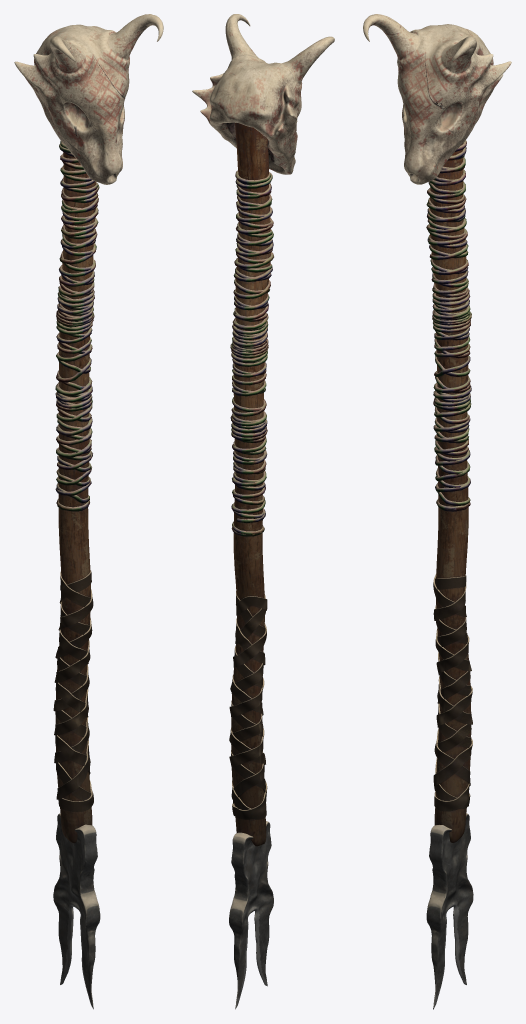
File: tribe_staff.glb
The picture shows the model from 3 angles, left to right: view 1: azimuth 30°, elevation 25°; view 2: azimuth 150°, elevation 25°; view 3: azimuth 330°, elevation 25°; orthographic projection. The views are drawn at different scales.
Visible parts, largest first — view 1: Skull LP, Staff, Wrap Rope, Wrap Strap, Blade; view 2: Staff, Wrap Rope, Skull LP, Wrap Strap, Blade; view 3: Skull LP, Staff, Wrap Rope, Wrap Strap, Blade.
Boxes of the visible parts, <box> form: Skull LP: <box>14,14,163,184</box>; Staff: <box>55,152,96,843</box>; Wrap Rope: <box>55,141,99,511</box>; Wrap Strap: <box>53,570,93,811</box>; Blade: <box>53,813,100,1009</box>; Staff: <box>231,123,270,846</box>; Wrap Rope: <box>230,170,273,536</box>; Skull LP: <box>192,14,334,174</box>; Wrap Strap: <box>229,591,267,819</box>; Blade: <box>229,821,273,1009</box>; Skull LP: <box>363,14,511,184</box>; Staff: <box>429,143,471,842</box>; Wrap Rope: <box>426,140,471,511</box>; Wrap Strap: <box>433,574,472,811</box>; Blade: <box>426,813,473,1009</box>.
Bounding box in the file's own units: 0.172 × 1.54 × 0.1689.
1 material, 1 textured.
